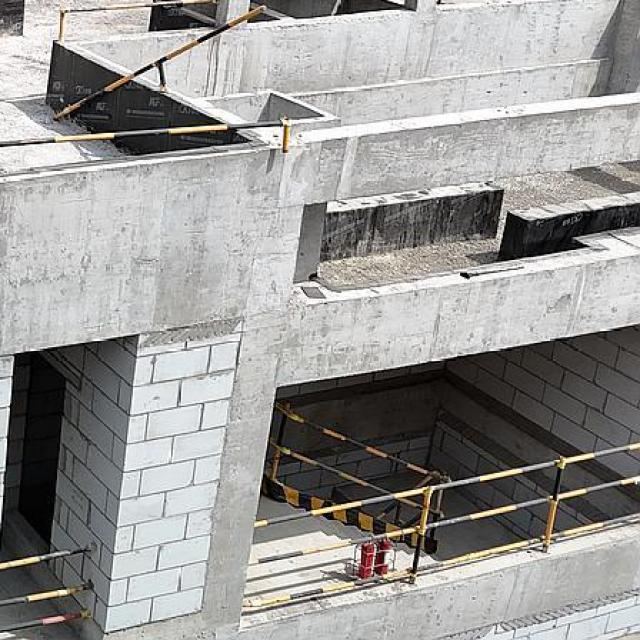edge_guardrail: (241, 440, 640, 610), (52, 3, 268, 124), (0, 115, 290, 152), (0, 546, 93, 631), (55, 0, 217, 44)
